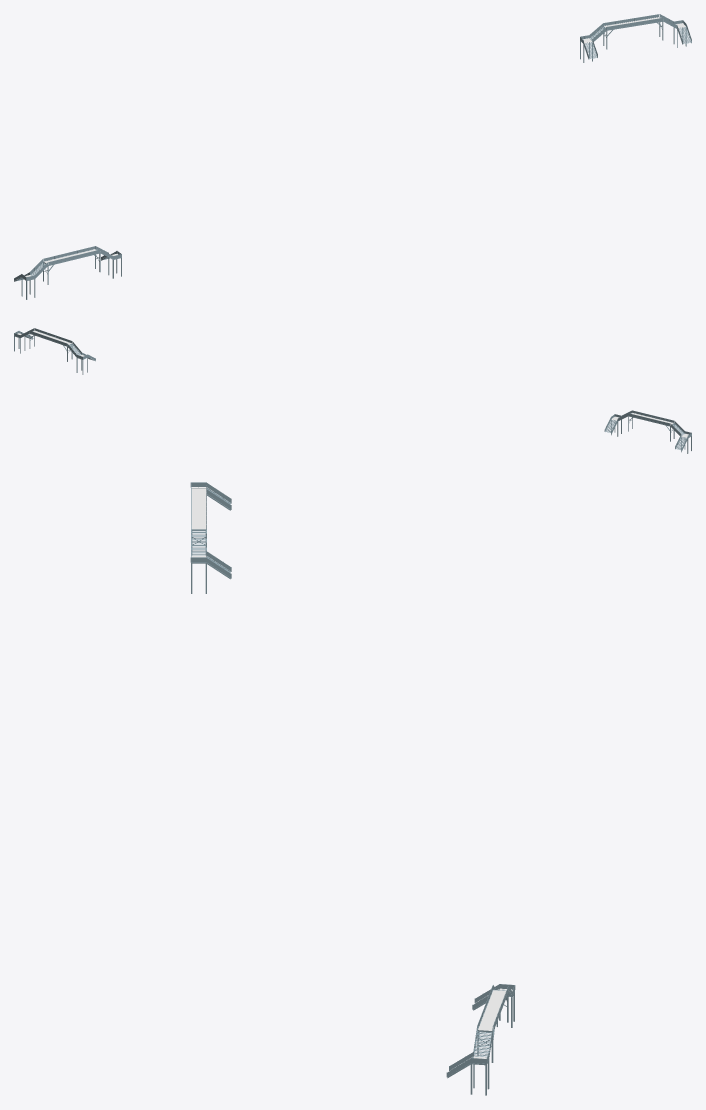
File: bridges_dirttrack.dae
The picture shows the model from 3 angles, top to bottom: view 1: azimuth 30°, elevation 25°; view 2: azimuth 150°, elevation 25°; view 3: azimuth 270°, elevation 25°; orthographic projection. The views are drawn at different scales.
Parts seen in each view (by area): view 1: bridges_dirttrack_a2000; view 2: bridges_dirttrack_a2000; view 3: bridges_dirttrack_a2000.
Part boxes in pixels (x1,y1,x2,y2): bridges_dirttrack_a2000: (14,14,691,299); bridges_dirttrack_a2000: (14,328,691,453); bridges_dirttrack_a2000: (190,482,515,1095).
Size of the model in its own units: 260 by 60.48 by 13.34.
